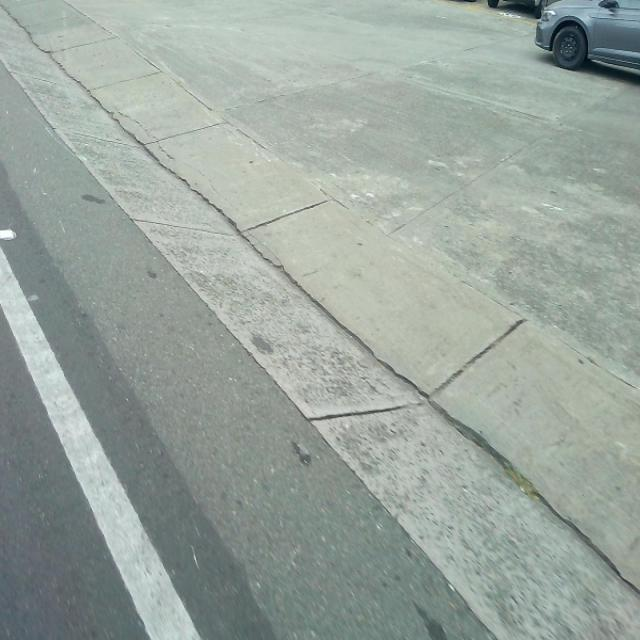DITCH: (2, 1, 638, 638), (2, 128, 637, 638)
